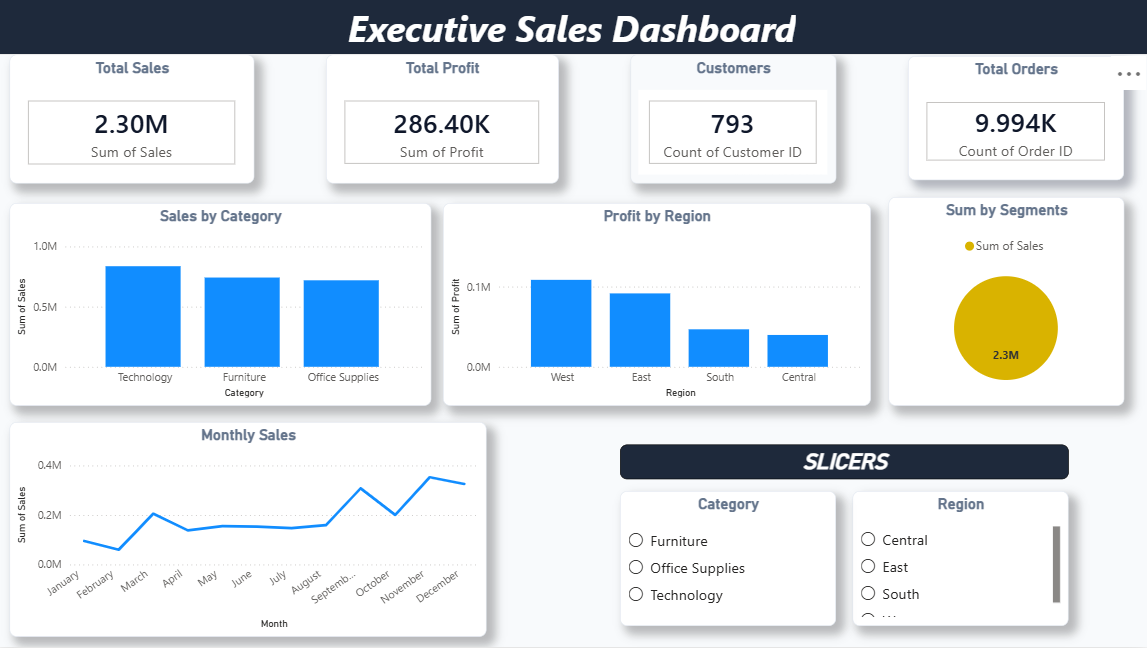

This screenshot's page, from the dashboard's own definition file:
{"tool":"powerbi","page":{"name":"Ecommerce_Customer_Analytics","canvas":[1280,720],"ordinal":0},"visuals":[{"type":"cardVisual","title":"Total Sales","fields":{"Data":["Sum(SampleSuperstore.Sales)"]},"box":[15,61.7,272.1,143.6],"z":0},{"type":"cardVisual","title":"Total Profit","fields":{"Data":["Sum(SampleSuperstore.Profit)"]},"box":[367,61.7,258.3,143.3],"z":1000},{"type":"cardVisual","title":"Total Orders","fields":{"Data":["CountNonNull(SampleSuperstore.Order ID)"]},"box":[1013.3,63.3,240,138],"z":2000},{"type":"cardVisual","title":"Customers","fields":{"Data":["Count(SampleSuperstore.Customer ID)"]},"box":[705.2,61.7,228.3,143.3],"z":3000},{"type":"clusteredColumnChart","title":"Sales by Category","fields":{"Y":["Sum(SampleSuperstore.Sales)"],"Category":["SampleSuperstore.Category"]},"box":[15,226.7,468.3,225],"z":4000},{"type":"columnChart","title":"Profit by Region","fields":{"Category":["SampleSuperstore.Region"],"Y":["Sum(SampleSuperstore.Profit)"]},"box":[496.7,226.7,475,225],"z":5000},{"type":"lineChart","title":"Monthly Sales","fields":{"Category":["SampleSuperstore.Order Date.Variation.Date Hierarchy.Month"],"Y":["Sum(SampleSuperstore.Sales)"]},"box":[15,470,530,238.3],"z":6000},{"type":"listSlicer","fields":{"Values":["SampleSuperstore.Region"]},"box":[951.7,546.7,240,150],"z":7000},{"type":"listSlicer","fields":{"Values":["SampleSuperstore.Category"]},"box":[693.3,546.7,240,150],"z":8000},{"type":"pieChart","title":"Sum by Segments","fields":{"Y":["Sum(SampleSuperstore.Sales)"]},"box":[991.7,220,261.7,231.7],"z":9000},{"type":"shape","box":[0,0,1280,61.7],"z":10000},{"type":"textbox","title":"SLICERS","box":[693.3,495,498.3,38.3],"z":11000}]}

Visuals, with their boxes in screenshot pixels (x1, y1, x2, y2), scaled from the page's 1280x720 canvas onto the 1147x648 screenshot:
"Total Sales" cardVisual: locate(13, 56, 257, 185)
"Total Profit" cardVisual: locate(329, 56, 560, 184)
"Total Orders" cardVisual: locate(908, 57, 1123, 181)
"Customers" cardVisual: locate(632, 56, 837, 184)
"Sales by Category" clusteredColumnChart: locate(13, 204, 433, 407)
"Profit by Region" columnChart: locate(445, 204, 871, 407)
"Monthly Sales" lineChart: locate(13, 423, 488, 637)
listSlicer - SampleSuperstore.Region: locate(853, 492, 1068, 627)
listSlicer - SampleSuperstore.Category: locate(621, 492, 836, 627)
"Sum by Segments" pieChart: locate(889, 198, 1123, 407)
shape: locate(0, 0, 1146, 56)
"SLICERS" textbox: locate(621, 446, 1068, 480)
